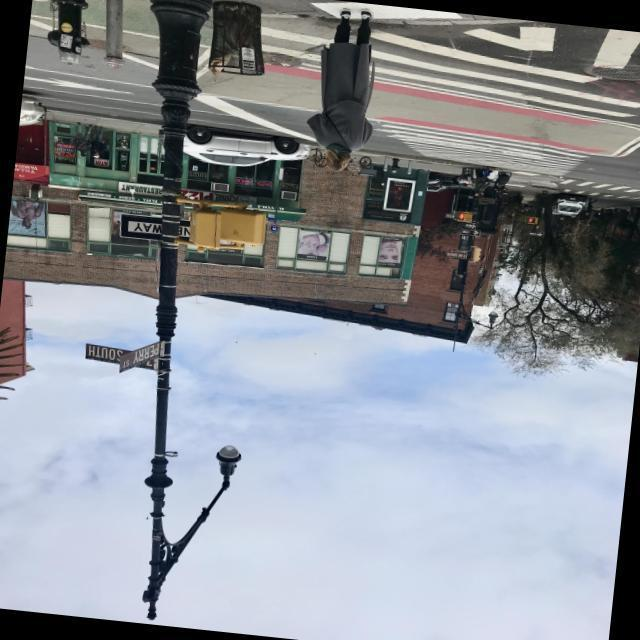off: (123, 403, 272, 618)
